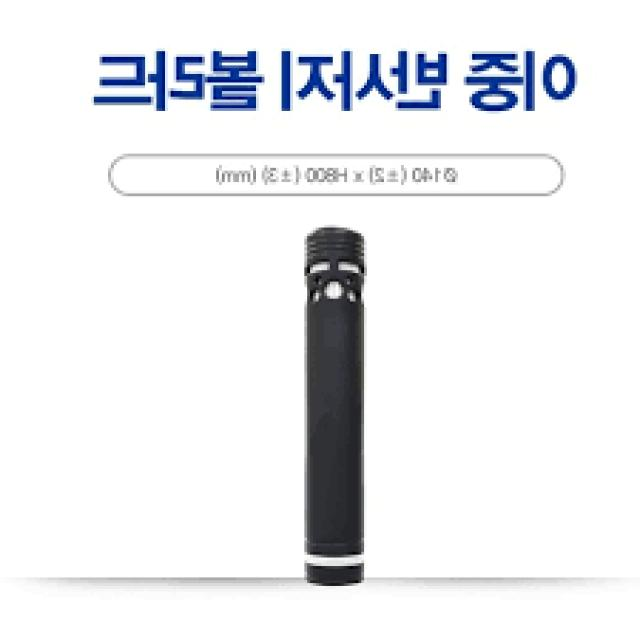bollard: (294, 218, 373, 600)
